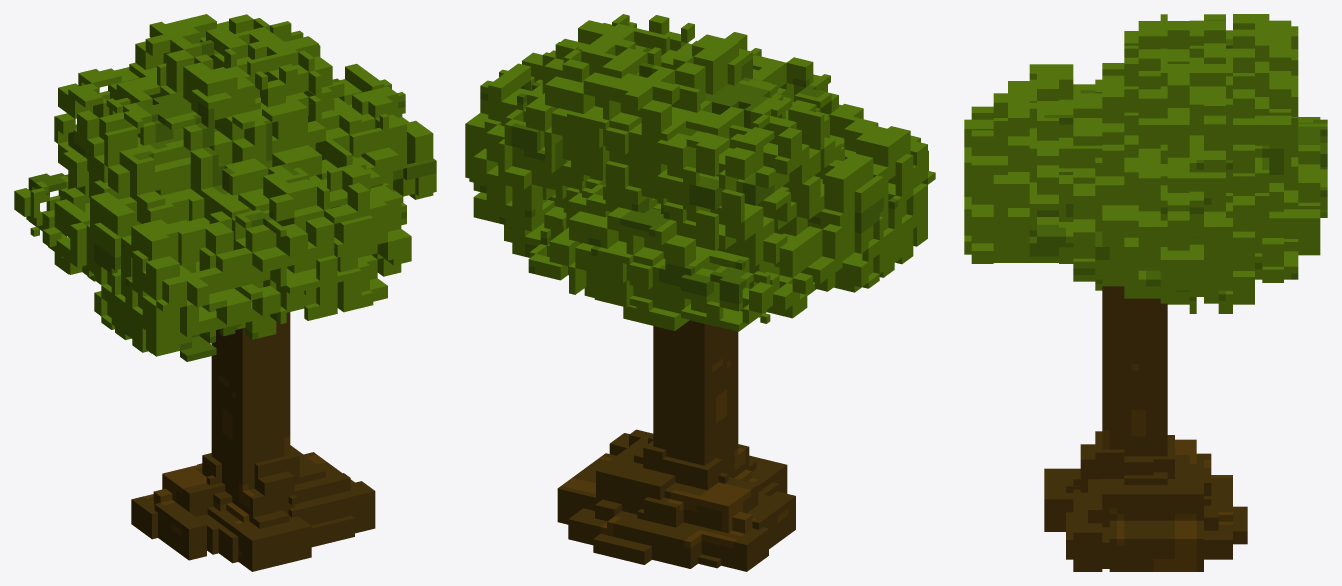
File: Tree3.obj
The picture shows the model from 3 angles, left to right: view 1: azimuth 30°, elevation 25°; view 2: azimuth 150°, elevation 25°; view 3: azimuth 270°, elevation 25°; orthographic projection. The views are drawn at different scales.
Bounding box in the file's own units: 5.4 × 7.3 × 5.
1 material, 1 textured.
